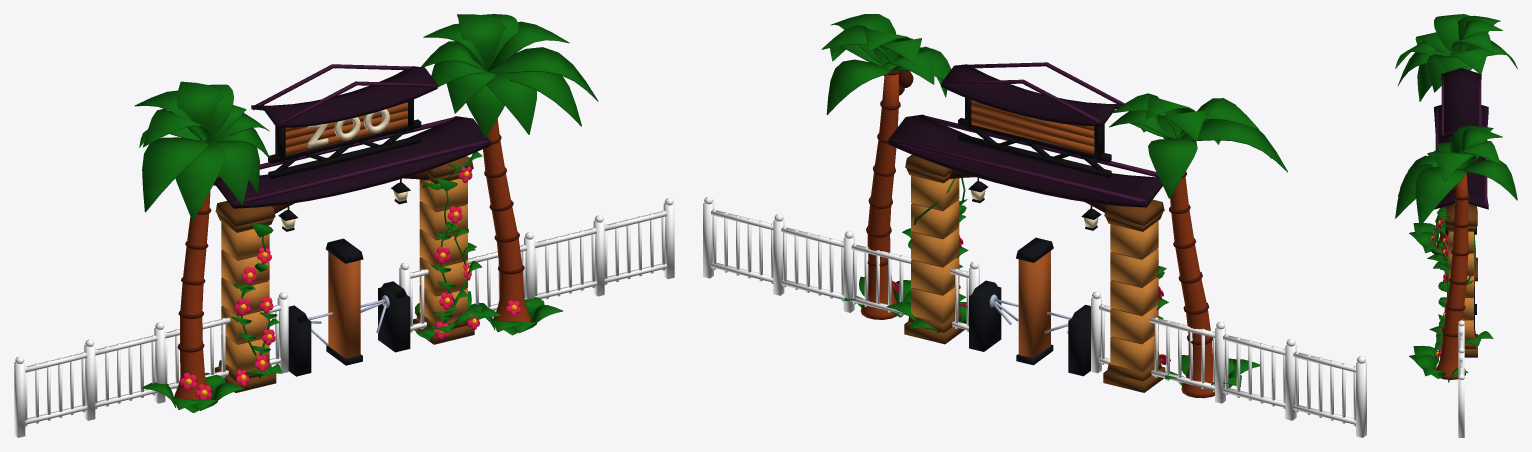
The model's file is entrada.fbx.
The picture shows the model from 3 angles, left to right: view 1: azimuth 30°, elevation 25°; view 2: azimuth 150°, elevation 25°; view 3: azimuth 270°, elevation 25°; orthographic projection. The views are drawn at different scales.
Visible parts, largest first — view 1: entrada, coqueiros, cerca; view 2: entrada, coqueiros, cerca; view 3: coqueiros, entrada, cerca.
Part boxes in pixels (box(x1,y1,x2,y2)): entrada: box(213, 64, 500, 392); coqueiros: box(134, 14, 598, 412); cerca: box(14, 198, 674, 437); entrada: box(886, 62, 1170, 392); coqueiros: box(821, 14, 1287, 398); cerca: box(703, 196, 1366, 437); coqueiros: box(1395, 14, 1517, 382); entrada: box(1427, 68, 1493, 357); cerca: box(1458, 319, 1464, 437).
Bounding box in the file's own units: 1227 × 528 × 251.
